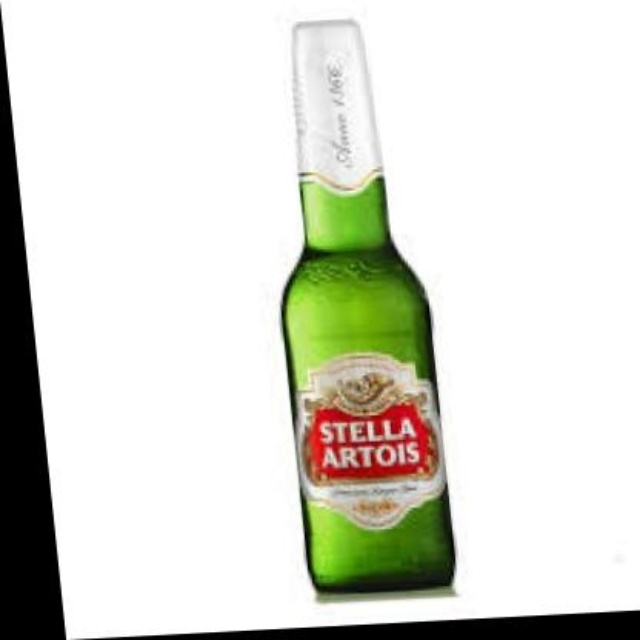trash: (283, 20, 452, 589)
